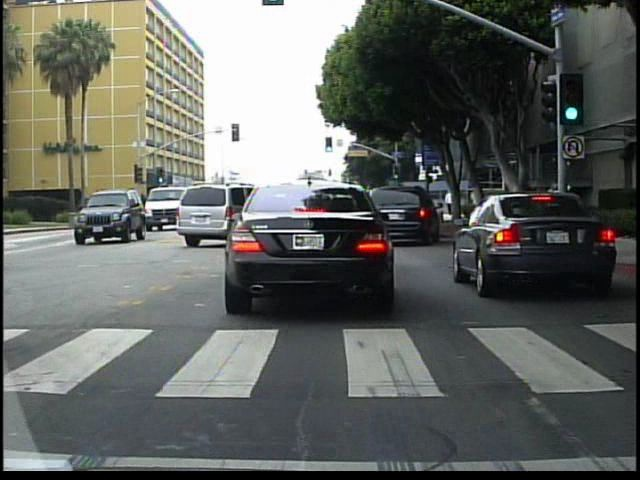person: (553, 175, 573, 234), (443, 187, 457, 218)
